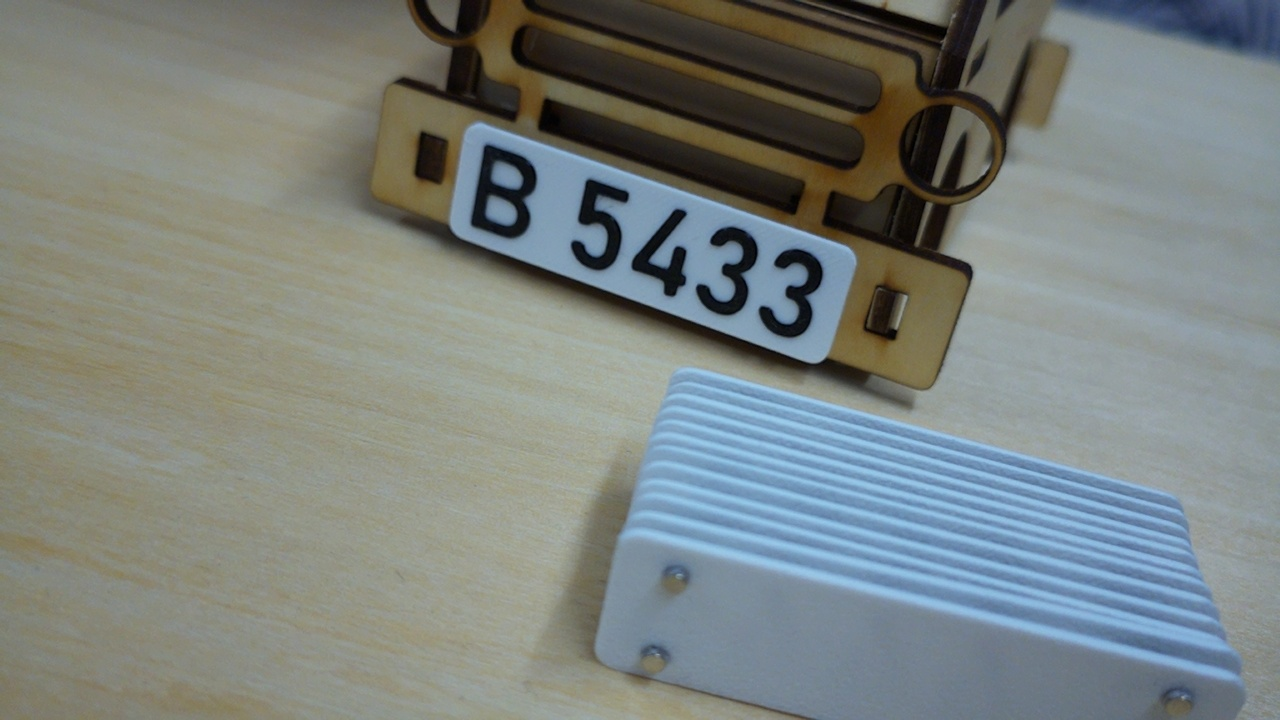license_plate: (446, 118, 860, 366)
